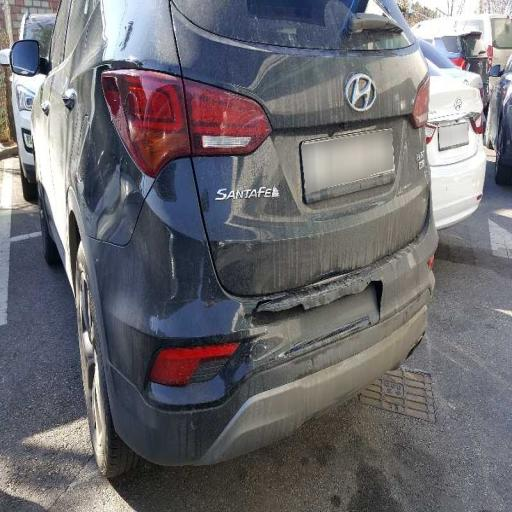broken: (138, 260, 432, 388)
scratch: (186, 49, 416, 239)
